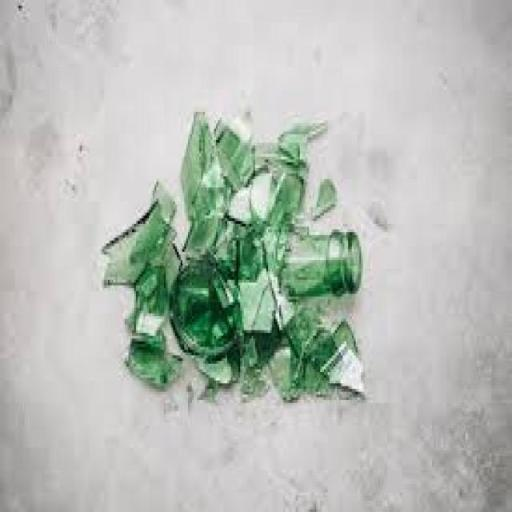glass: (264, 216, 364, 306), (171, 258, 242, 358), (103, 194, 178, 287), (180, 113, 224, 250), (312, 314, 372, 406), (236, 314, 286, 386), (130, 266, 174, 340), (213, 116, 255, 192), (264, 167, 304, 239), (126, 337, 183, 387), (274, 120, 328, 172), (231, 224, 271, 284), (283, 304, 320, 359)
